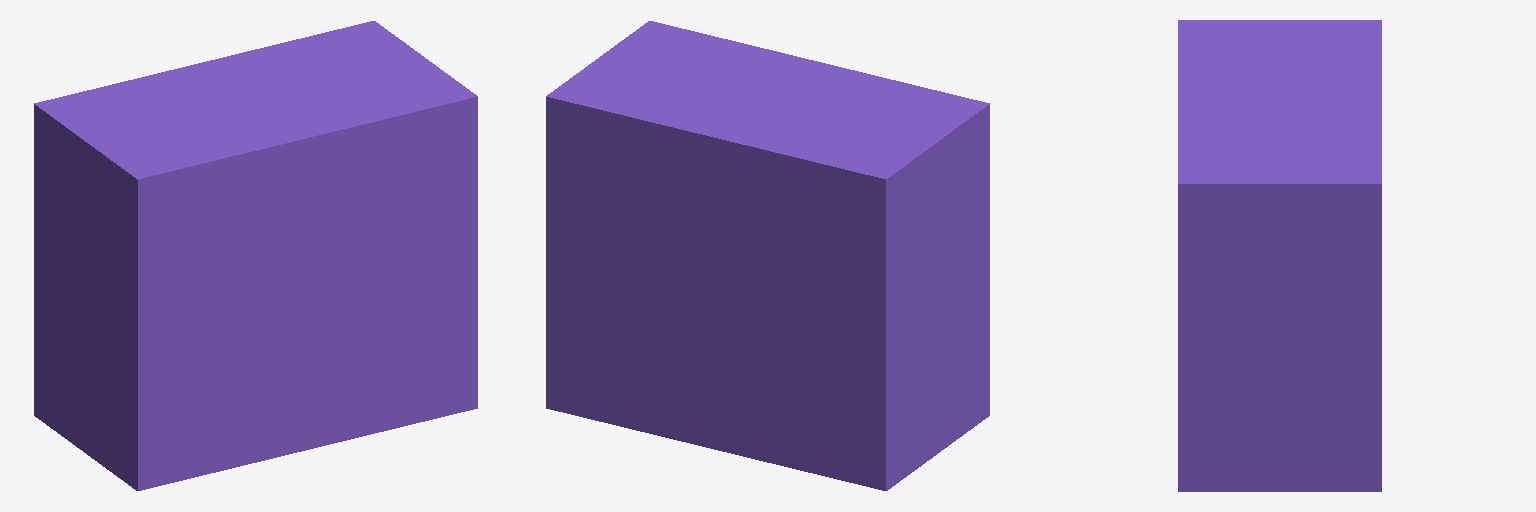
robot.urdf — cube:
<?xml version="1.0"?>
 <robot name="cube">
   <material name="purple">
     <color rgba="0.57647059 0.43921569 0.85882353 1"/>
   </material>
   <link name="base_link">
     <visual>
       <geometry>
         <box size="0.0823294 0.0941151 0.0496827"/>
       </geometry>
       <material name="purple"/>
       <origin xyz="-0.02484135 -0.02484135 0.0411647" rpy="0 1.5707963 1.5707963"/>
     </visual>
     <inertial>
       <mass value="0"/>
       <inertia ixx="1.0" ixy="0.0" ixz="0.0" iyy="1.0" iyz="0.0" izz="1.0"/>
     </inertial>
   </link>
 </robot>

--- Render facts (derived) ---
3 views of the same robot in one strip: view 1: azimuth 30°, elevation 25°; view 2: azimuth 150°, elevation 25°; view 3: azimuth 270°, elevation 25° (orthographic).
Model cube with 1 links and 0 joints (none), rooted at base_link, posed all joints at 0.
Visible links, largest first — view 1: base_link; view 2: base_link; view 3: base_link.
Link boxes in pixels (left/top/right/bottom): base_link: left=34, top=21, right=477, bottom=490; base_link: left=546, top=21, right=989, bottom=490; base_link: left=1178, top=20, right=1381, bottom=491.
Size in the robot's own frame: 0.0941 by 0.0497 by 0.0823 metres.
Geometry: primitives only (box / cylinder / sphere), no mesh files.